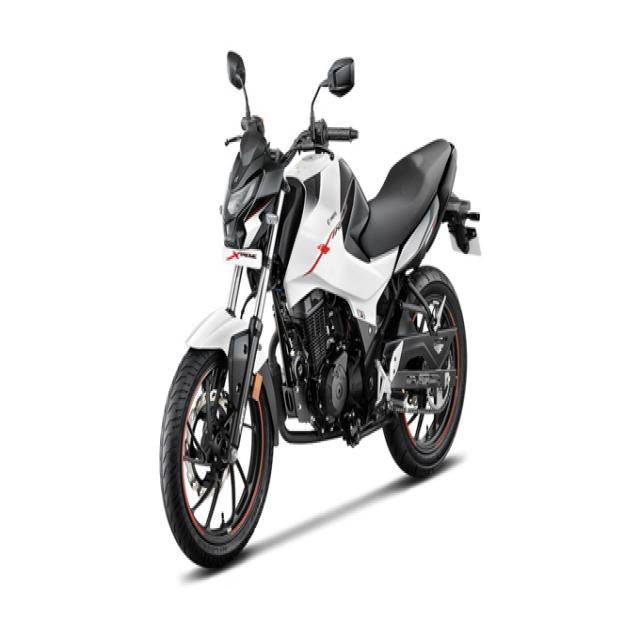Bike: (159, 49, 481, 572)
